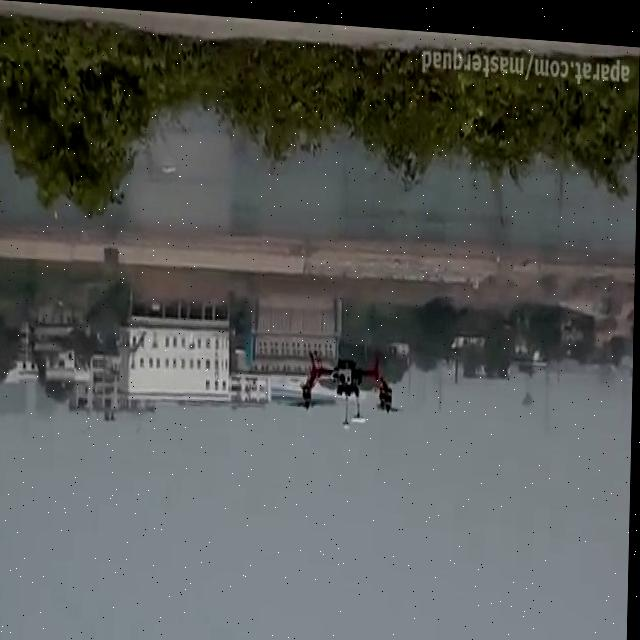drone: (287, 338, 408, 431)
